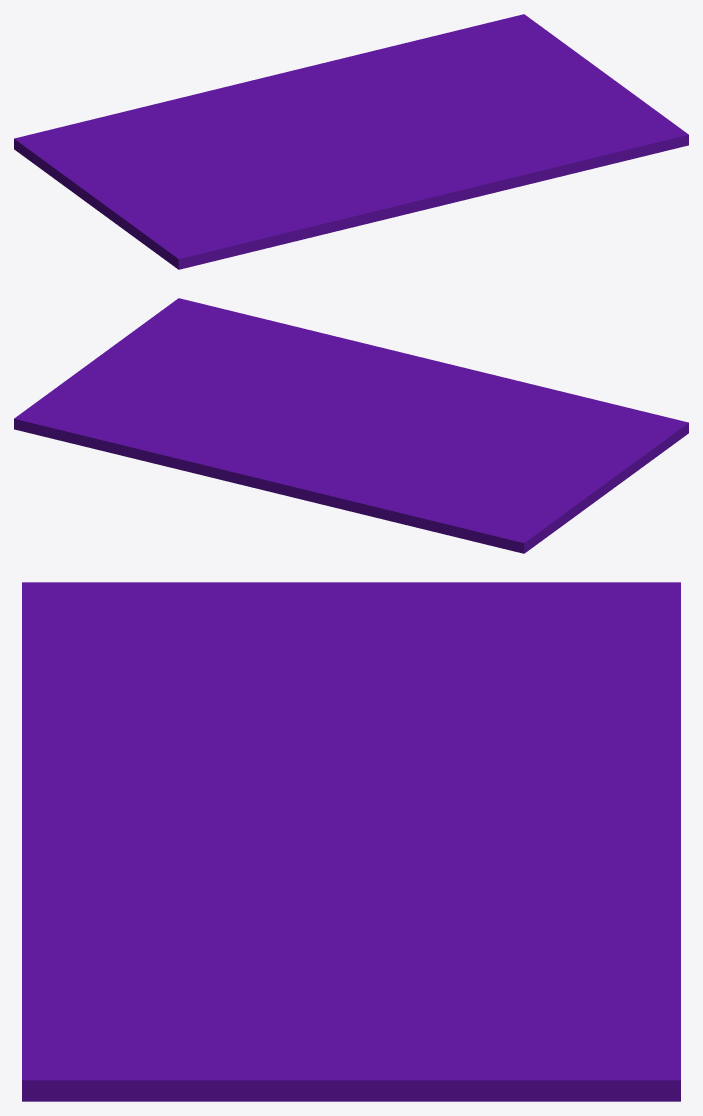
The model's file is Exhibition_19.015_chunks.fbx.
3 views of the same model, one above another, from view 1: azimuth 30°, elevation 25°; view 2: azimuth 150°, elevation 25°; view 3: azimuth 270°, elevation 25° (orthographic). The views are drawn at different scales.
Parts seen in each view (by area): view 1: Exhibition_19.015_0, Exhibition_19.015_1, Exhibition_19.015_2, Exhibition_19.015_3; view 2: Exhibition_19.015_0, Exhibition_19.015_2, Exhibition_19.015_1, Exhibition_19.015_3; view 3: Exhibition_19.015_0, Exhibition_19.015_2, Exhibition_19.015_1, Exhibition_19.015_3.
Part boxes in pixels (bbox=[...]): Exhibition_19.015_0: bbox=[353, 14, 688, 198]; Exhibition_19.015_1: bbox=[65, 142, 450, 269]; Exhibition_19.015_2: bbox=[14, 45, 394, 186]; Exhibition_19.015_3: bbox=[322, 134, 479, 206]; Exhibition_19.015_0: bbox=[14, 298, 387, 460]; Exhibition_19.015_2: bbox=[142, 421, 578, 553]; Exhibition_19.015_1: bbox=[378, 370, 688, 515]; Exhibition_19.015_3: bbox=[346, 349, 472, 428]; Exhibition_19.015_0: bbox=[22, 835, 680, 1101]; Exhibition_19.015_2: bbox=[358, 582, 680, 954]; Exhibition_19.015_1: bbox=[22, 582, 463, 803]; Exhibition_19.015_3: bbox=[22, 793, 358, 875].
Size of the model in its own units: 642 by 12.85 by 359.
